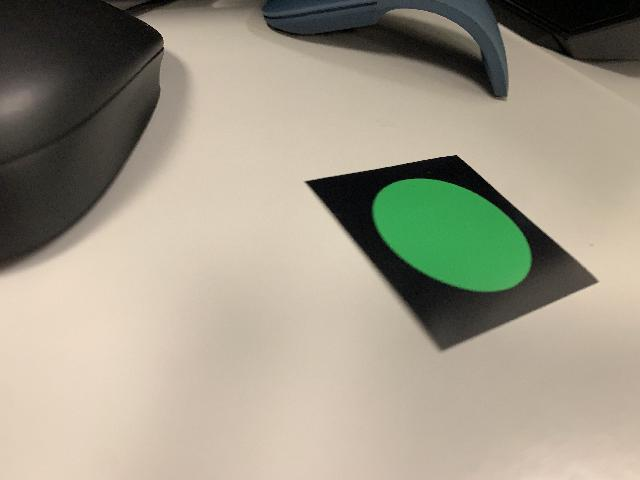go: (301, 150, 601, 358)
